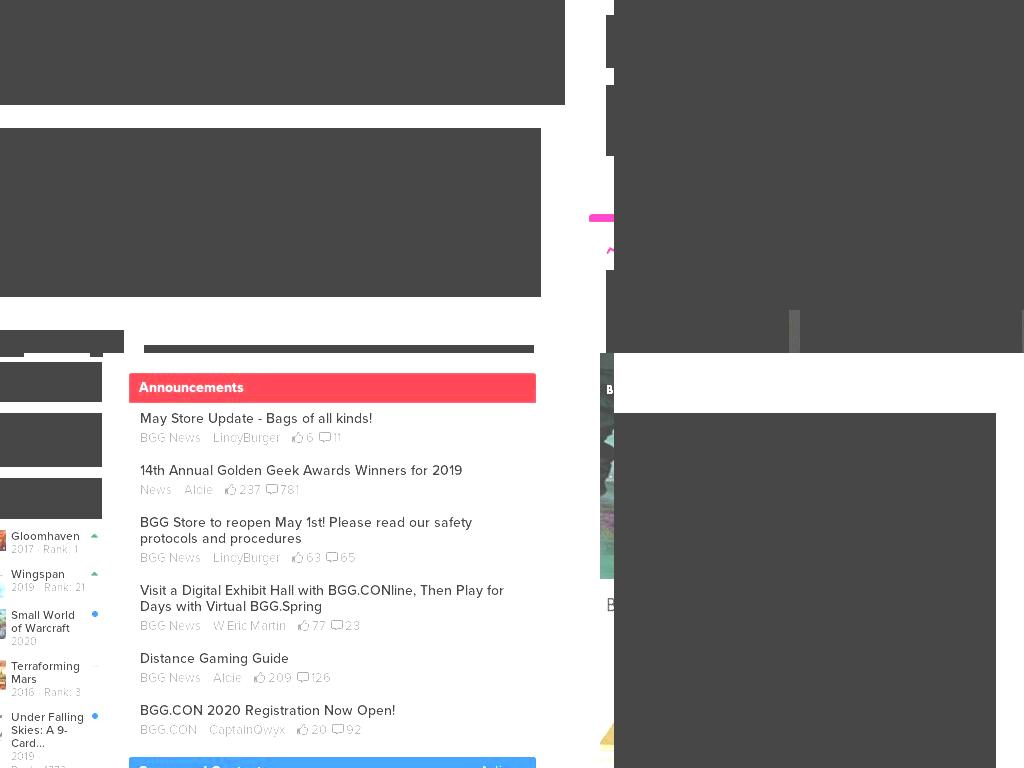button: (614, 0, 1024, 231), (0, 128, 541, 297), (614, 624, 935, 710), (800, 246, 1022, 353), (614, 246, 789, 353), (614, 721, 935, 745), (0, 711, 102, 768), (0, 413, 102, 467), (0, 478, 102, 519), (0, 362, 102, 402), (0, 609, 102, 649), (0, 660, 102, 700), (0, 568, 102, 598), (0, 530, 102, 557), (480, 765, 526, 768), (90, 353, 103, 357)
heading: (0, 128, 541, 297), (614, 624, 935, 710), (140, 582, 504, 615), (140, 514, 472, 547), (140, 462, 462, 479), (140, 702, 395, 719), (140, 410, 372, 427), (140, 650, 289, 667), (139, 381, 244, 395), (139, 765, 269, 768)
image: (614, 413, 996, 768), (614, 0, 1024, 310), (0, 0, 565, 105), (800, 246, 1022, 353), (614, 246, 789, 353), (0, 478, 6, 508), (0, 568, 6, 598), (0, 609, 6, 639), (0, 660, 6, 690), (318, 431, 331, 444), (265, 483, 278, 496), (325, 551, 338, 564), (330, 619, 343, 632), (296, 671, 309, 684), (331, 723, 344, 736), (292, 431, 304, 444), (225, 483, 237, 496), (292, 551, 304, 564), (298, 619, 310, 632), (254, 671, 266, 684), (297, 723, 309, 736), (0, 530, 6, 551), (0, 362, 6, 382), (91, 611, 98, 617), (91, 713, 98, 719)
link: (208, 722, 285, 738), (212, 618, 286, 634), (614, 189, 687, 205), (212, 430, 280, 446), (212, 550, 280, 566), (140, 430, 204, 446), (140, 550, 204, 566), (140, 618, 204, 634), (140, 670, 204, 686), (140, 722, 200, 738), (140, 482, 175, 498), (183, 482, 213, 498), (212, 670, 242, 686)
text: (614, 100, 933, 157), (11, 711, 87, 750), (11, 362, 87, 388), (11, 413, 87, 439), (11, 609, 87, 635), (11, 660, 87, 686), (11, 478, 87, 491), (11, 530, 87, 543), (11, 568, 87, 581), (87, 413, 102, 467), (11, 505, 72, 518), (11, 453, 71, 466), (87, 478, 102, 519), (87, 362, 102, 402), (87, 660, 102, 700), (44, 581, 85, 594), (44, 686, 81, 699), (43, 543, 78, 556), (87, 568, 102, 598), (267, 670, 295, 686), (238, 482, 264, 498), (87, 530, 102, 557), (11, 439, 40, 452), (11, 491, 40, 504), (11, 581, 38, 594), (11, 686, 38, 699), (11, 750, 38, 763), (11, 388, 37, 401), (11, 543, 37, 556), (11, 635, 37, 648), (310, 670, 331, 686), (279, 482, 299, 498), (310, 722, 330, 738), (305, 550, 324, 566), (311, 618, 329, 634), (339, 550, 356, 566), (345, 722, 362, 738), (344, 618, 360, 634), (11, 764, 66, 768), (305, 430, 317, 446), (332, 430, 341, 446), (480, 765, 518, 768), (37, 543, 43, 556), (38, 581, 44, 594), (38, 686, 44, 699), (40, 439, 43, 452), (40, 491, 43, 504), (38, 750, 41, 763)
